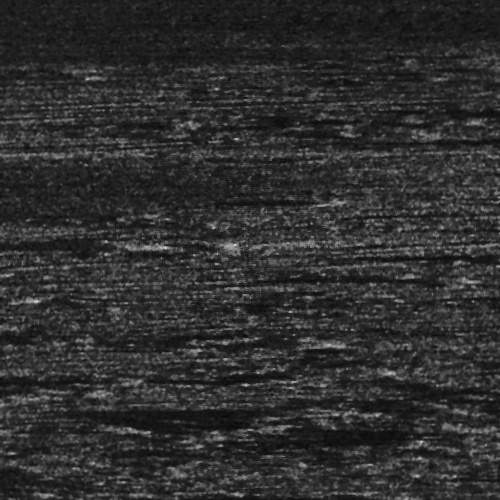object: (107, 239, 180, 248), (112, 373, 175, 382), (366, 492, 407, 500), (410, 275, 473, 280), (290, 198, 343, 203), (14, 296, 55, 301), (306, 407, 337, 412), (486, 251, 500, 260)
shadow: (158, 492, 387, 500), (340, 251, 500, 260), (0, 373, 143, 382), (0, 239, 143, 248), (265, 275, 441, 280), (340, 137, 500, 142), (114, 0, 500, 2), (192, 198, 316, 203), (262, 407, 321, 412), (0, 296, 35, 301)
